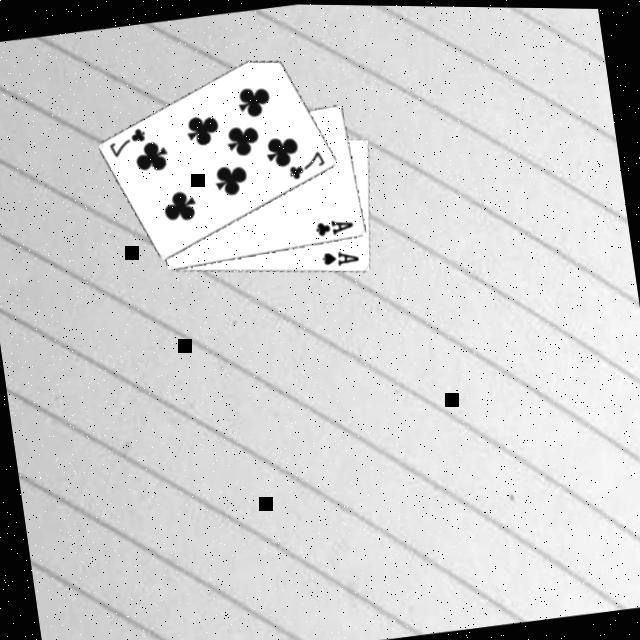7C: (285, 144, 332, 183), (106, 122, 153, 161)
AC: (314, 213, 359, 240)
AS: (321, 243, 365, 270)
